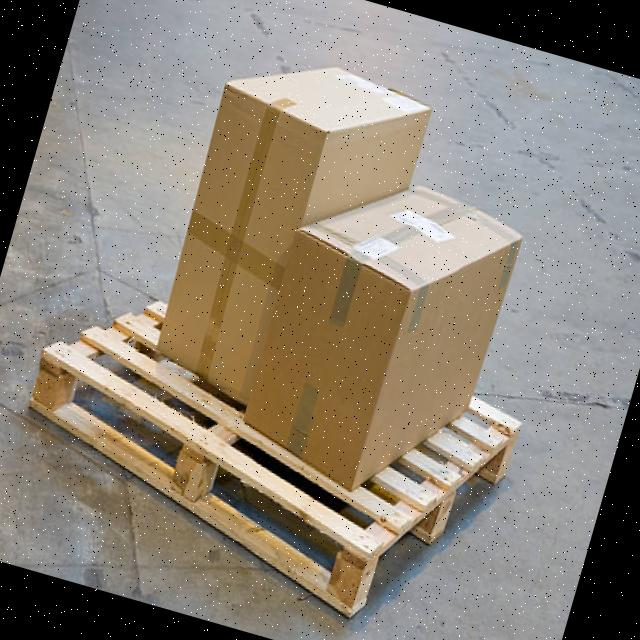Wooden-Pallets: (15, 327, 528, 625)
